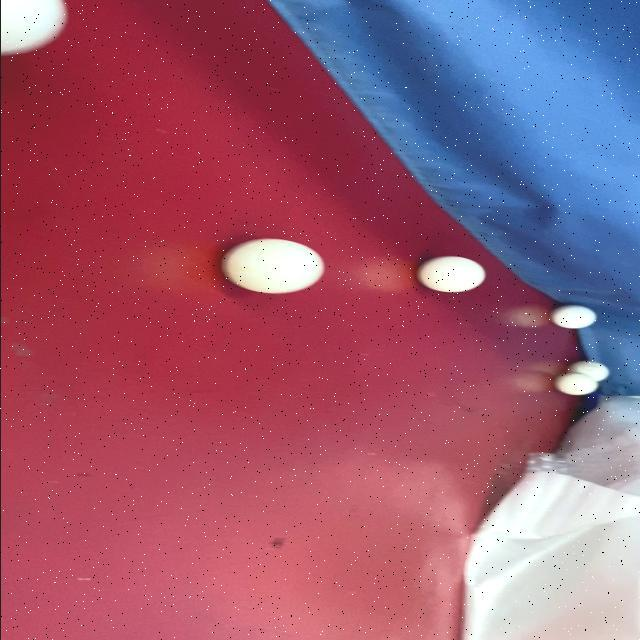ping-pong-ball: (216, 235, 330, 297), (414, 252, 486, 297), (548, 303, 596, 330), (553, 372, 597, 396)
